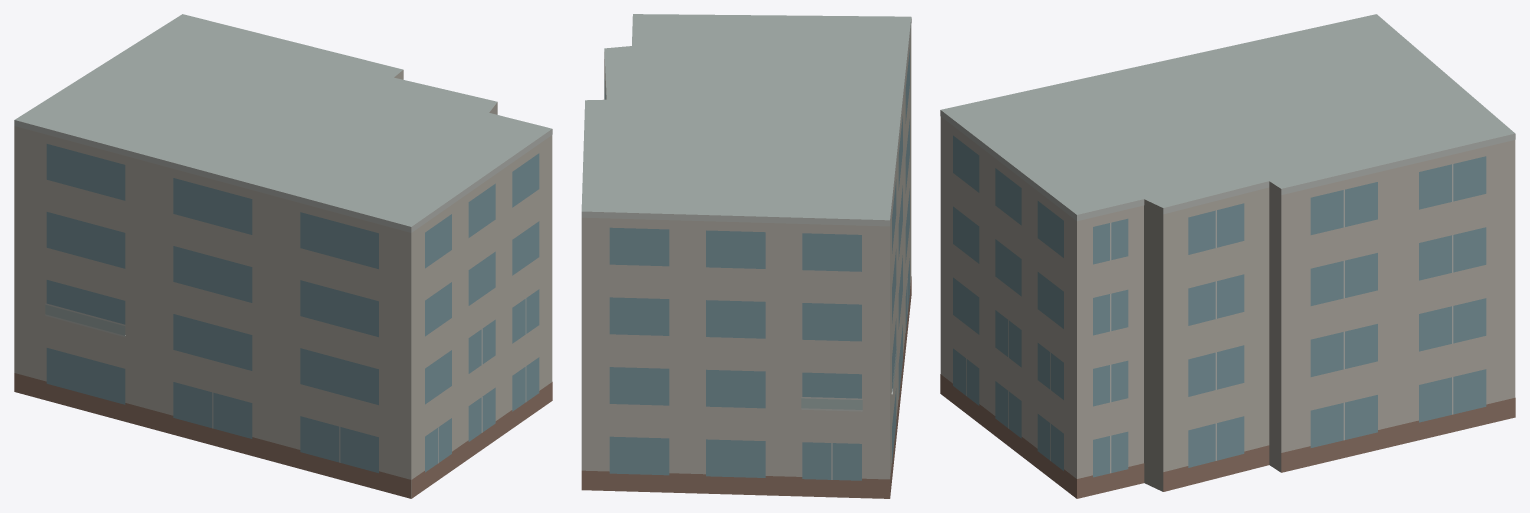
File: survey-upis-32923449.glb
3 renders of one model, left to right at view 1: azimuth 30°, elevation 25°; view 2: azimuth 150°, elevation 25°; view 3: azimuth 270°, elevation 25°, orthographic. The views are drawn at different scales.
Visible parts, largest first — view 1: survey-upis-32923449.tmp; view 2: survey-upis-32923449.tmp; view 3: survey-upis-32923449.tmp.
Part boxes in pixels (box(x1,y1,x2,y2)): survey-upis-32923449.tmp: box(14, 14, 552, 498); survey-upis-32923449.tmp: box(581, 14, 911, 498); survey-upis-32923449.tmp: box(940, 14, 1515, 498).
Size of the model in its own units: 16.71 by 11 by 20.2.
